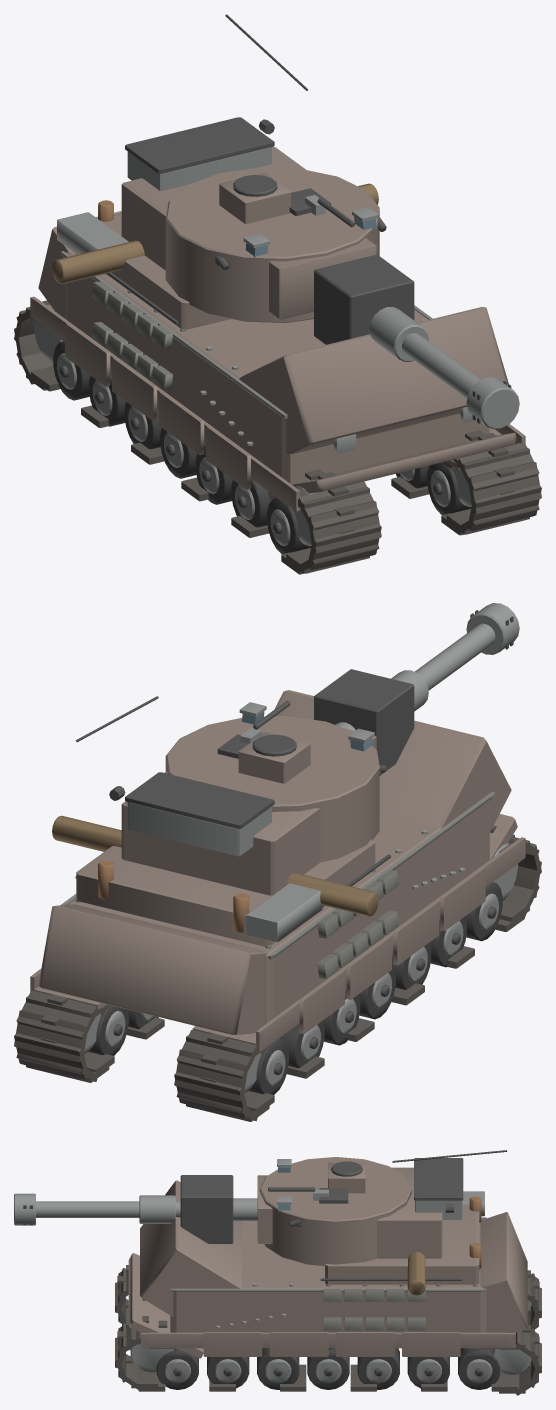
Rendered from viy.glb.
3 views of the same model, one above another, from view 1: azimuth 30°, elevation 25°; view 2: azimuth 150°, elevation 25°; view 3: azimuth 270°, elevation 25° (orthographic). The views are drawn at different scales.
Visible parts, largest first — view 1: Hull, Turret, Barrel; view 2: Hull, Turret, Barrel; view 3: Hull, Turret, Barrel.
Boxes of the visible parts, <box> form: Hull: <box>14,183,541,574</box>; Turret: <box>121,14,386,322</box>; Barrel: <box>314,254,519,429</box>; Hull: <box>14,690,541,1121</box>; Turret: <box>76,696,386,895</box>; Barrel: <box>314,603,519,774</box>; Hull: <box>115,1180,541,1395</box>; Turret: <box>257,1150,506,1265</box>; Barrel: <box>14,1175,257,1243</box>.
Size of the model in its own units: 4.9 by 4.89 by 10.06.
